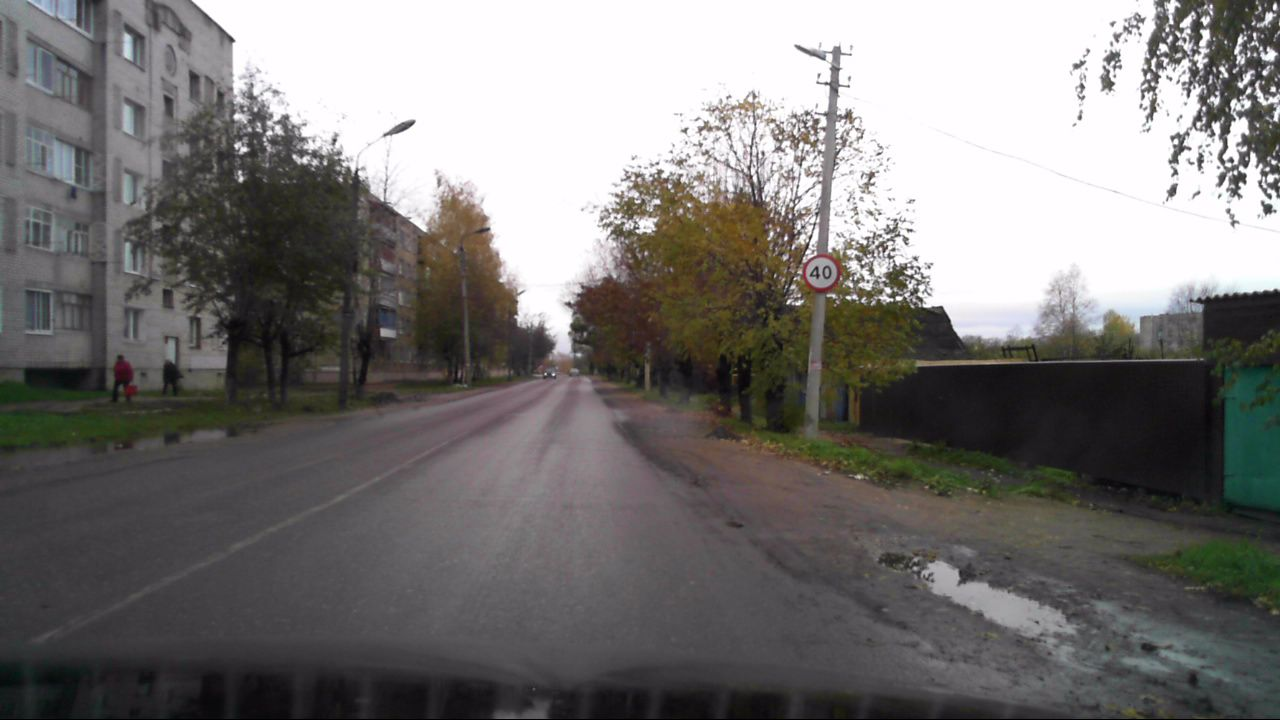speed_warning_40: (802, 253, 841, 292)
